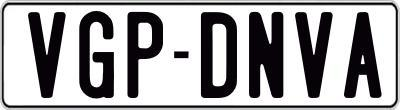A: (341, 11, 379, 100)
D: (200, 11, 236, 97)
G: (76, 8, 111, 98)
N: (247, 10, 283, 99)
P: (124, 12, 163, 101)
V: (292, 9, 333, 100), (25, 9, 66, 98)
